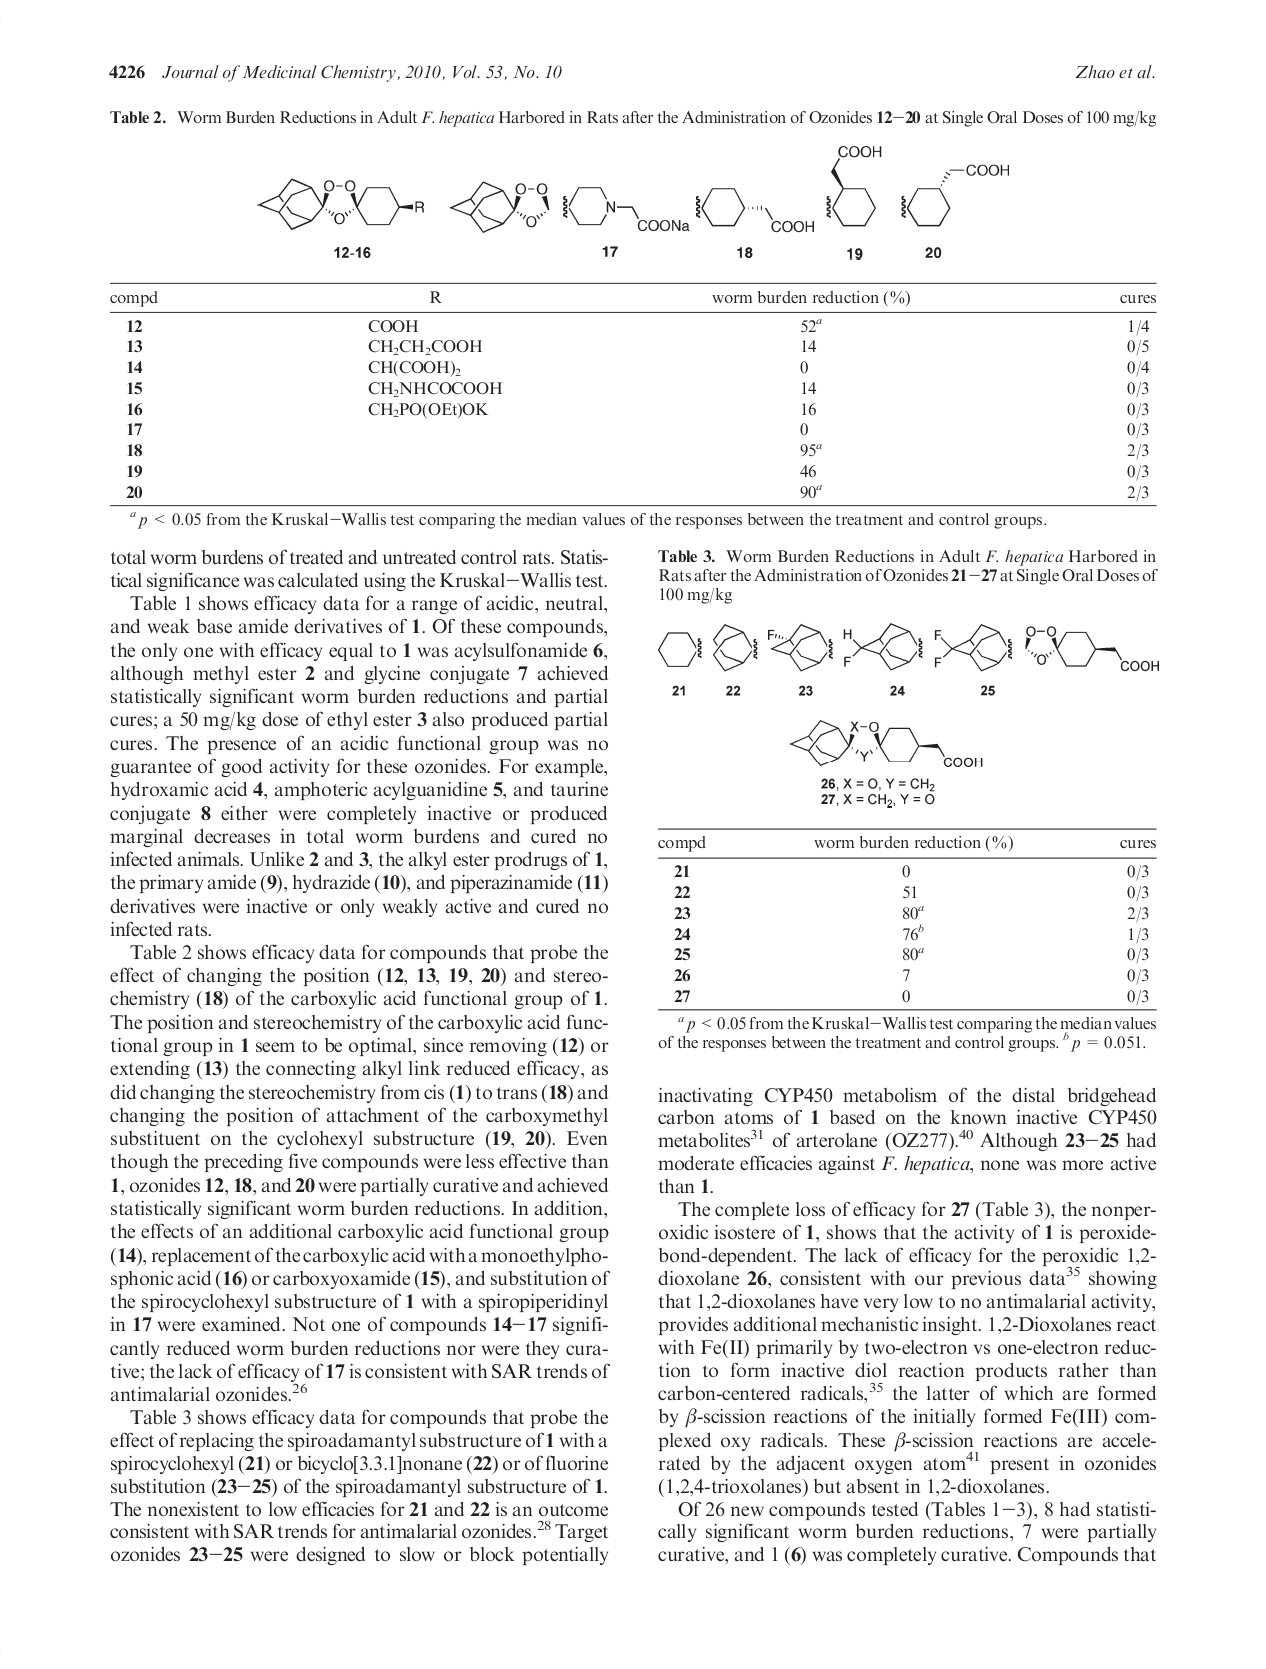exist_molecular: (826, 144, 1024, 257), (445, 173, 692, 235), (254, 176, 436, 243), (789, 717, 980, 773), (1019, 622, 1160, 684), (690, 180, 821, 243), (926, 621, 1020, 680), (838, 618, 928, 677), (766, 621, 836, 676), (648, 625, 711, 676), (711, 618, 765, 676)
